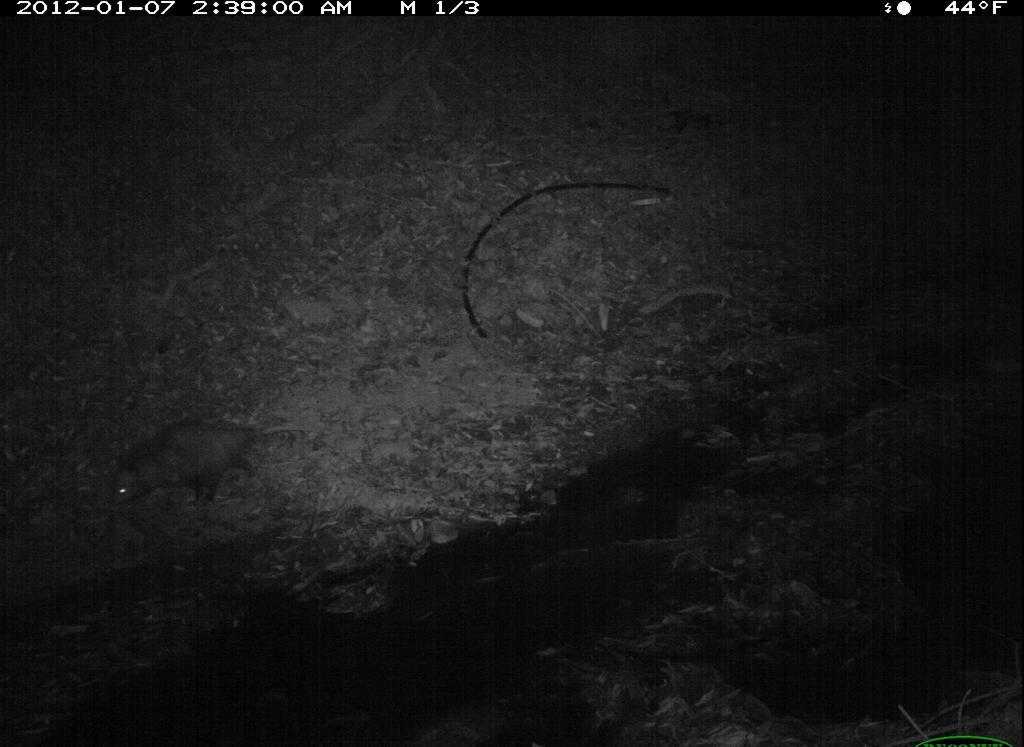opossum: (85, 408, 301, 524)
